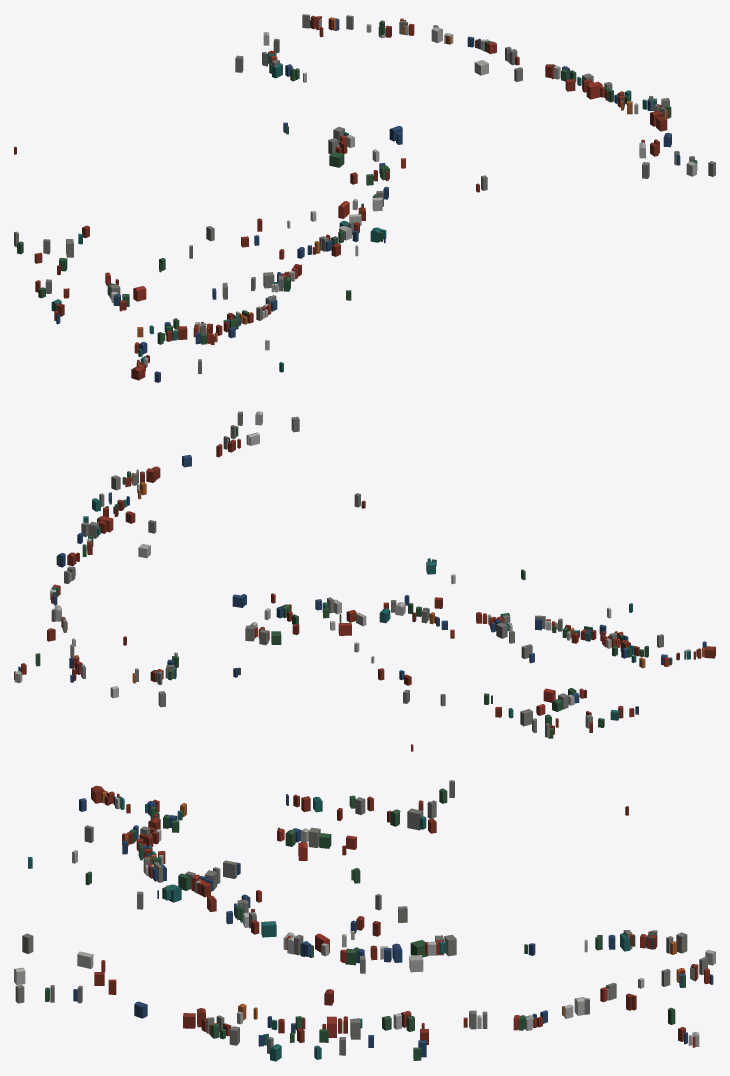
The model's file is near-15-27350-14860.c09e9fbf.glb.
3 views of the same model, one above another, from view 1: azimuth 30°, elevation 25°; view 2: azimuth 150°, elevation 25°; view 3: azimuth 270°, elevation 25° (orthographic). The views are drawn at different scales.
Size of the model in its own units: 1180 by 240 by 1008.
